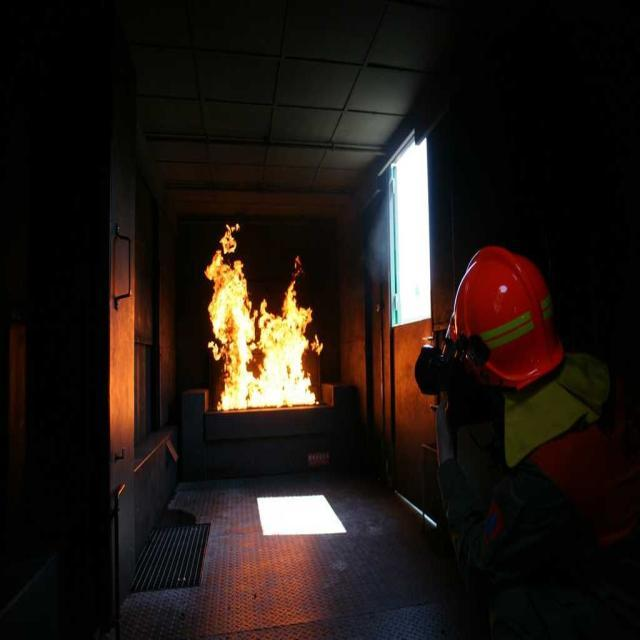Fire: (198, 250, 326, 412)
